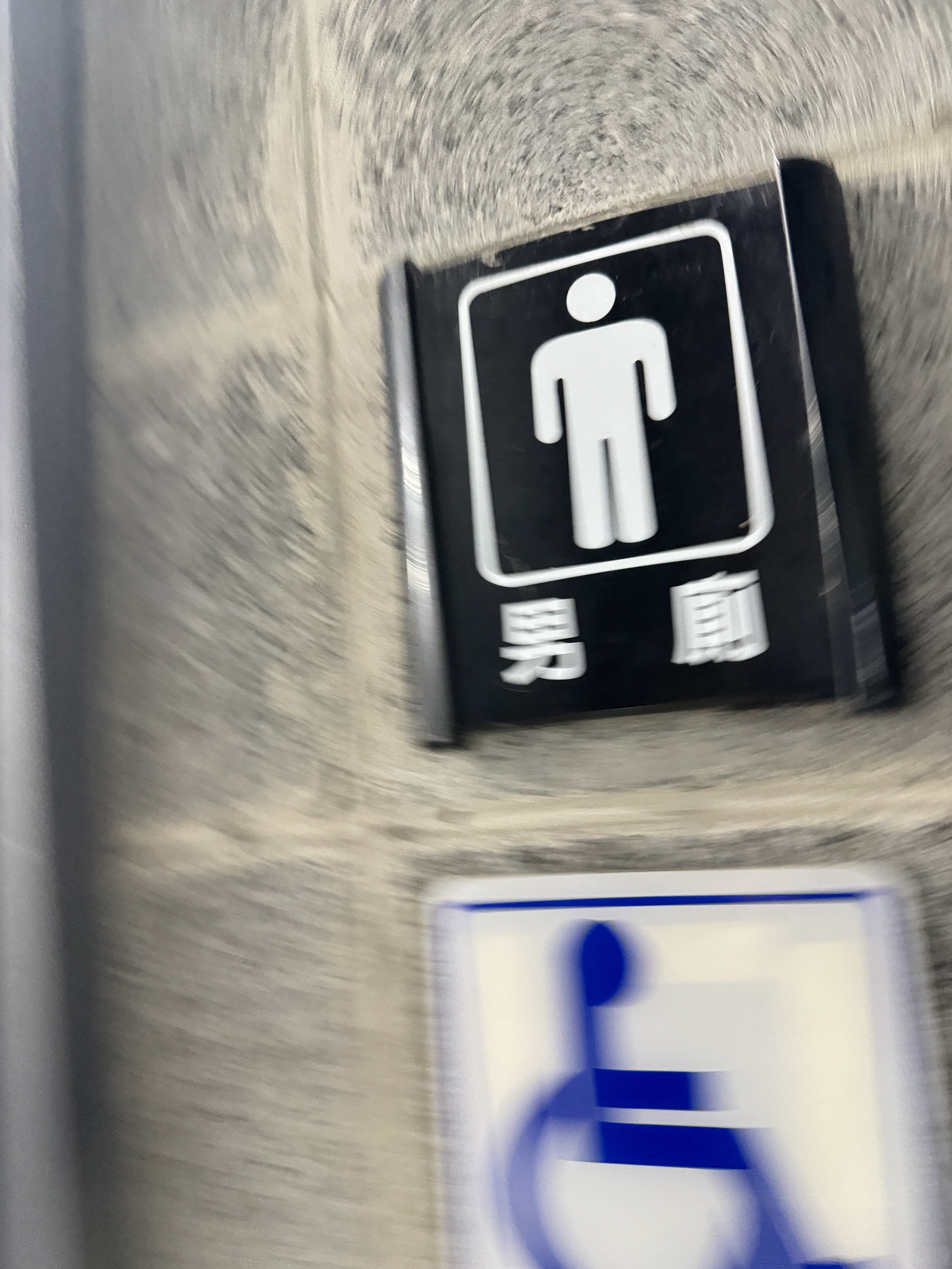toilet_sign: (321, 161, 945, 745)
